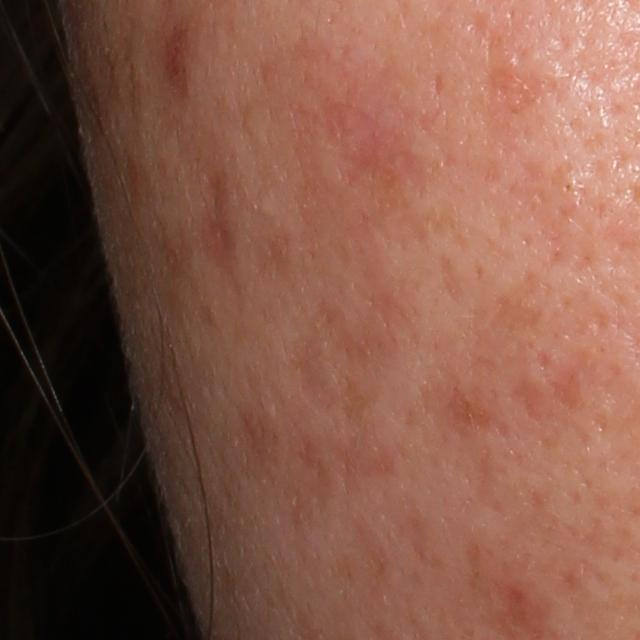atrophic_scar: (488, 268, 549, 345), (533, 348, 598, 416), (501, 367, 552, 434), (200, 172, 230, 257), (438, 248, 466, 314), (431, 69, 448, 100)
